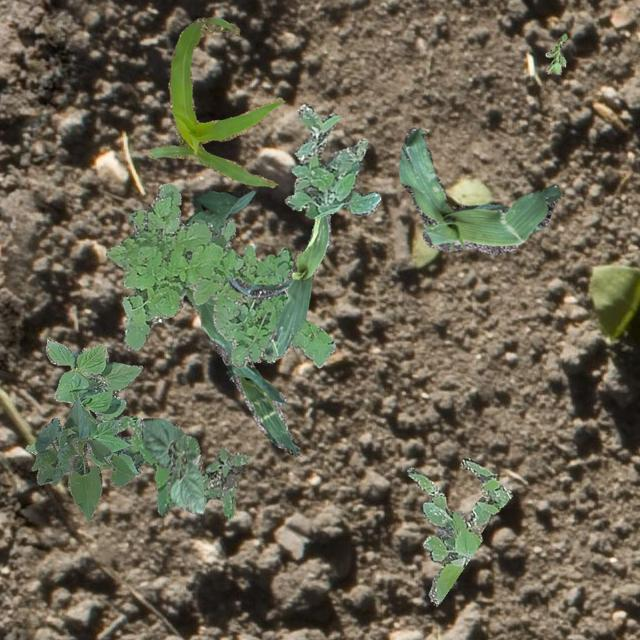crop: (182, 188, 298, 454), (146, 17, 284, 186), (398, 126, 560, 254), (25, 336, 142, 474), (228, 212, 330, 354), (30, 398, 134, 520), (140, 417, 203, 512)
weed: (104, 182, 334, 366), (94, 412, 248, 518), (406, 456, 512, 604), (284, 102, 379, 216), (544, 32, 566, 74)
